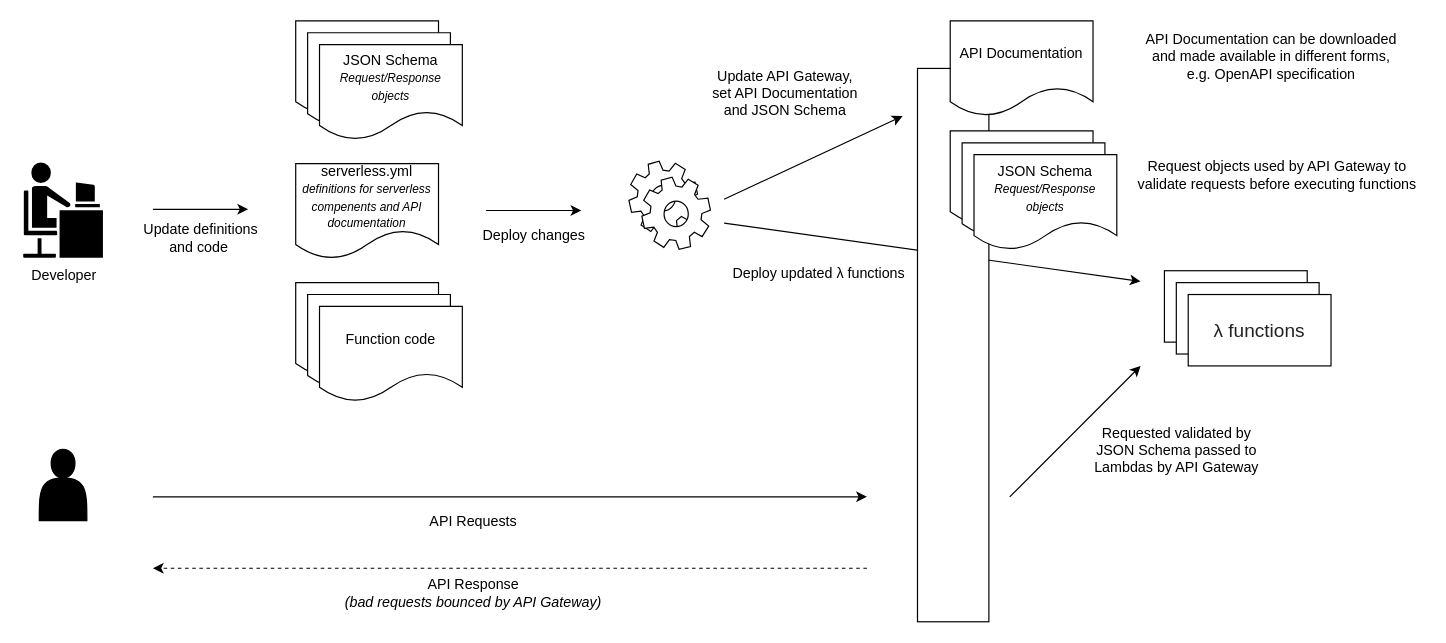
Image size: 1446x643. Some labels were removed from this diagram. Each missing label, with the centre of its shape:
API Gateway: point (952, 344)
API User: point (62, 484)
Serverless Framework: point (669, 204)
